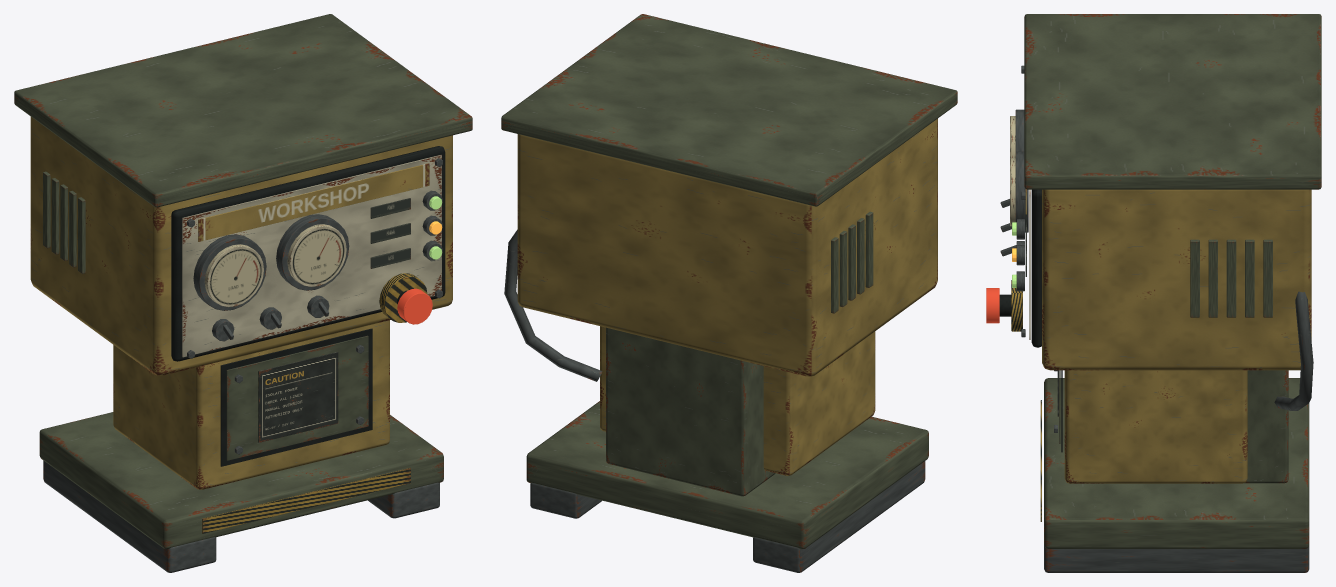
File: NC_Workshop.fbx
3 renders of one model, left to right at view 1: azimuth 30°, elevation 25°; view 2: azimuth 150°, elevation 25°; view 3: azimuth 270°, elevation 25°, orthographic. The views are drawn at different scales.
Parts seen in each view (by area): view 1: NC_Workshop_LOD0; view 2: NC_Workshop_LOD0; view 3: NC_Workshop_LOD0.
Part boxes in pixels (x1,y1,x2,y2): NC_Workshop_LOD0: [14, 14, 472, 572]; NC_Workshop_LOD0: [501, 14, 957, 572]; NC_Workshop_LOD0: [986, 14, 1321, 572].
Size of what is drawn, in the model's own units: 0.8443 by 0.9915 by 0.7335.
1 material, 1 textured.
